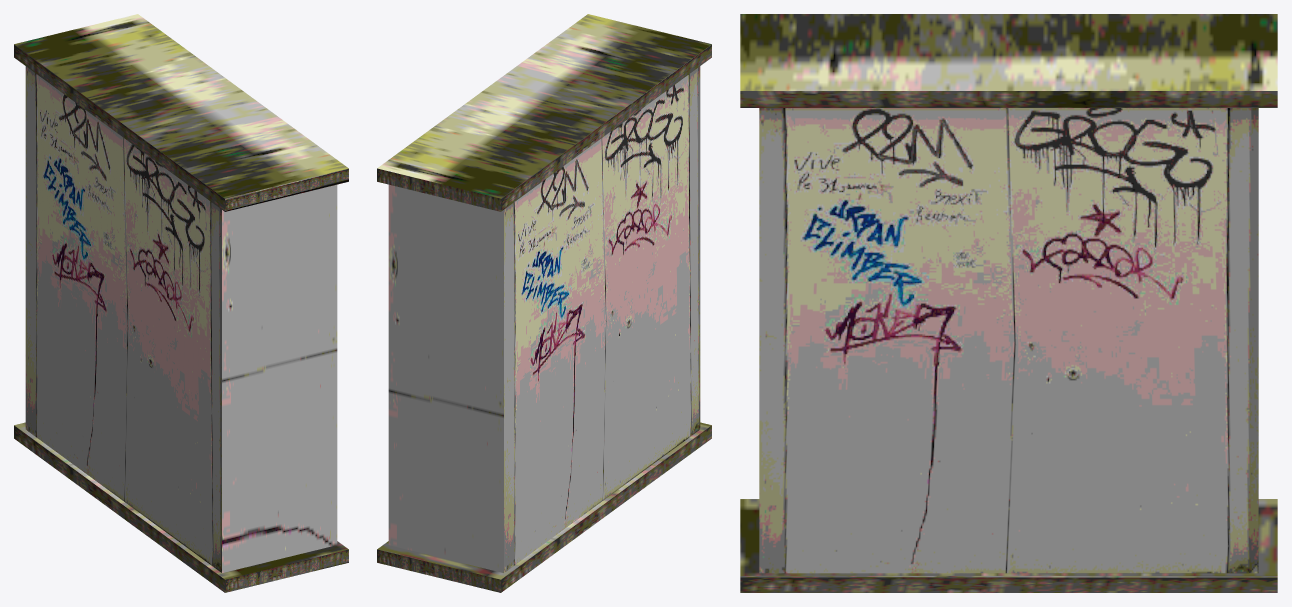
The model's file is electricbox02.fbx.
The picture shows the model from 3 angles, left to right: view 1: azimuth 30°, elevation 25°; view 2: azimuth 150°, elevation 25°; view 3: azimuth 270°, elevation 25°; orthographic projection. The views are drawn at different scales.
Parts seen in each view (by area): view 1: Cube.005; view 2: Cube.005; view 3: Cube.005.
Boxes of the visible parts, x1,y1,x2,y2 form: Cube.005: (14, 14, 348, 592); Cube.005: (377, 14, 711, 592); Cube.005: (740, 14, 1277, 592).
Bounding box in the file's own units: 28.73 × 87.35 × 84.73.
Materials: 1 (1 with a texture image).
